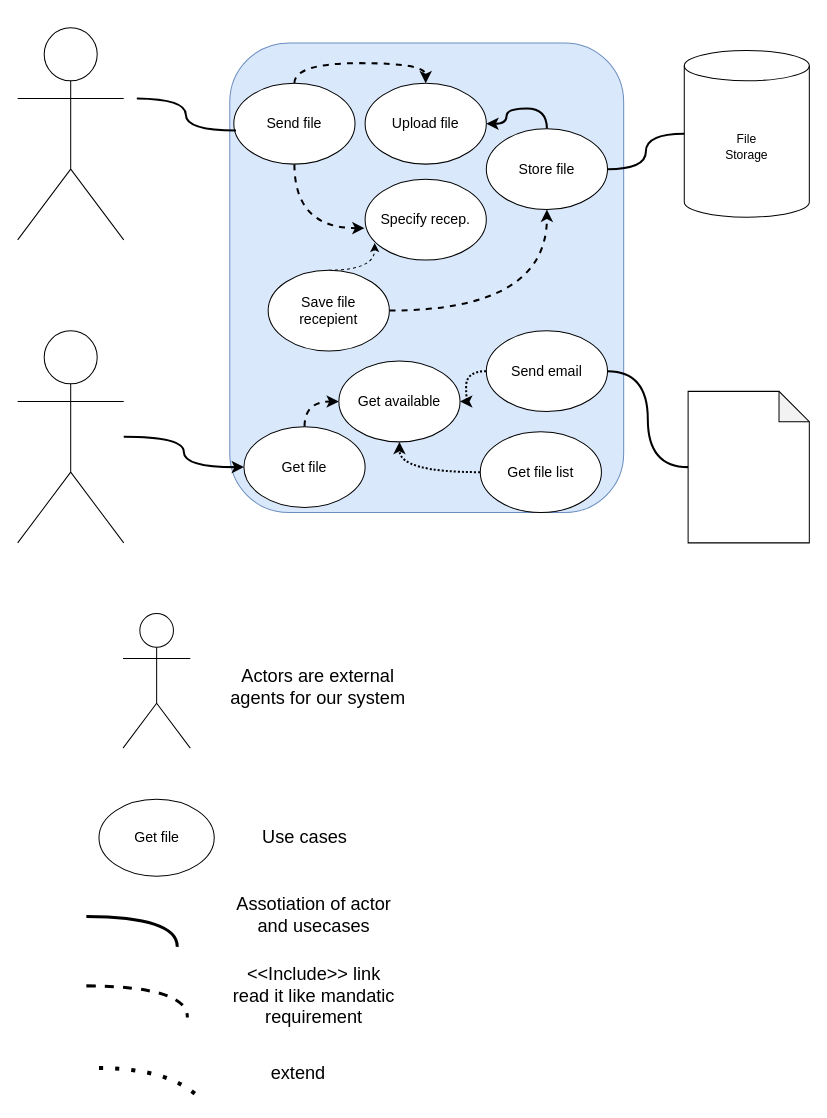
Image size: 827x1118. Some labels were removed from this diagram. Here are the shapes that lost their labels. From the top down, the box of each, then its label:
(17, 27, 124, 240): Sender
(229, 42, 624, 513): File Transfer Service
(17, 330, 124, 543): Recepient
(687, 390, 809, 543): Email Sevice
(122, 613, 190, 748): Actor
